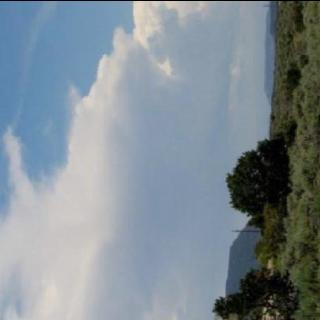Cirrostratus: (1, 0, 234, 320)
